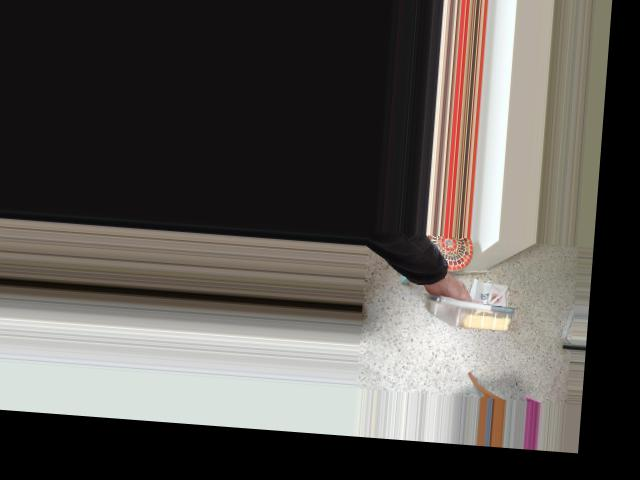cheese: (427, 277, 517, 342)
